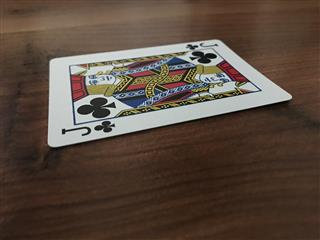JackOfClubs: (47, 38, 292, 147)
